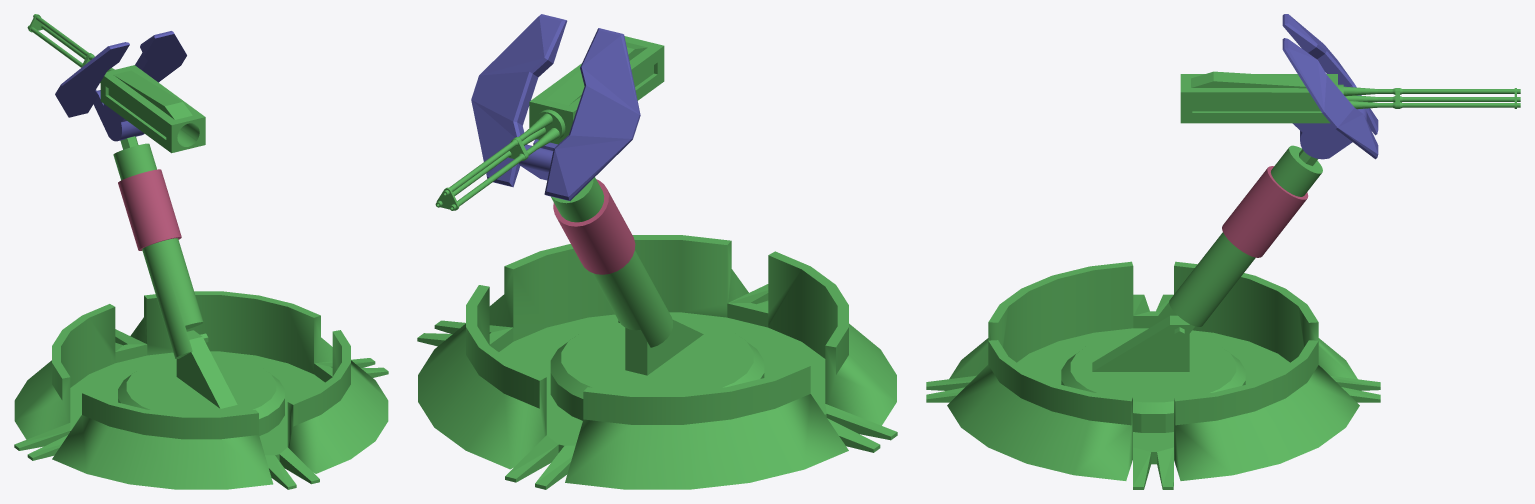
The model's file is torreta_2.fbx.
The picture shows the model from 3 angles, left to right: view 1: azimuth 30°, elevation 25°; view 2: azimuth 150°, elevation 25°; view 3: azimuth 270°, elevation 25°; orthographic projection. The views are drawn at different scales.
Parts seen in each view (by area): view 1: group_0, group_0_002, group_0_004, group_0_010, group_0_012, group_0_013, group_0_015, group_0_005; view 2: group_0, group_0_002, group_0_004, group_0_010, group_0_012, group_0_013, group_0_003, group_0_006, group_0_007; view 3: group_0, group_0_002, group_0_004, group_0_012, group_0_010, group_0_013, group_0_014, group_0_003, group_0_006, group_0_007.
Boxes of the visible parts, box(x1,y1,x2,y2) form: group_0: box(14, 291, 388, 489); group_0_002: box(113, 143, 284, 435); group_0_004: box(55, 31, 186, 141); group_0_010: box(118, 169, 181, 250); group_0_012: box(100, 65, 205, 153); group_0_013: box(113, 70, 192, 119); group_0_015: box(105, 86, 166, 139); group_0_005: box(177, 123, 199, 146); group_0: box(417, 235, 897, 489); group_0_002: box(550, 177, 764, 420); group_0_004: box(471, 14, 640, 200); group_0_010: box(553, 179, 635, 274); group_0_012: box(529, 36, 664, 144); group_0_013: box(546, 42, 647, 105); group_0_003: box(442, 113, 552, 196); group_0_006: box(449, 128, 559, 210); group_0_007: box(435, 127, 545, 207); group_0: box(926, 261, 1380, 489); group_0_002: box(1061, 145, 1322, 432); group_0_004: box(1282, 14, 1378, 159); group_0_012: box(1180, 74, 1337, 123); group_0_010: box(1222, 166, 1308, 257); group_0_013: box(1191, 71, 1306, 88); group_0_014: box(1192, 103, 1321, 112); group_0_003: box(1343, 86, 1520, 96); group_0_006: box(1345, 95, 1520, 102); group_0_007: box(1349, 101, 1520, 109).
Size of the model in its own units: 4.63 by 4.07 by 6.05.
